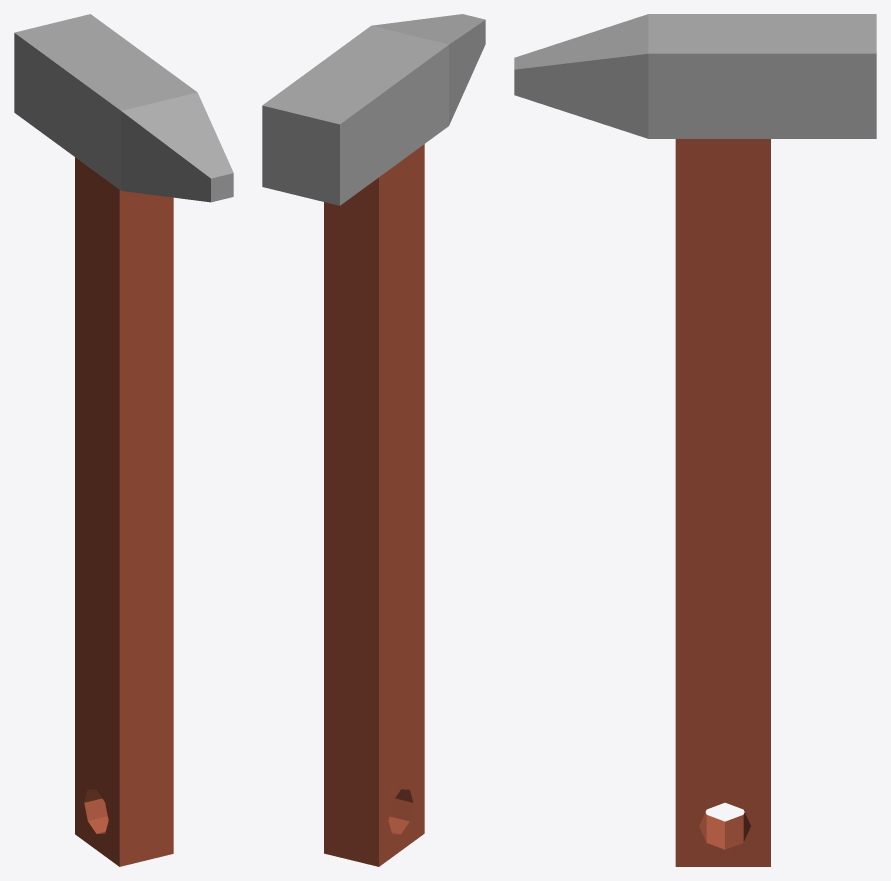
File: Martillo_2.fbx
3 views of the same model, side by side, from view 1: azimuth 30°, elevation 25°; view 2: azimuth 150°, elevation 25°; view 3: azimuth 270°, elevation 25° (orthographic). The views are drawn at different scales.
Parts seen in each view (by area): view 1: Cube.009, Cube.008; view 2: Cube.009, Cube.008; view 3: Cube.009, Cube.008.
Boxes of the visible parts, x1,y1,x2,y2 form: Cube.009: (75,157,173,866); Cube.008: (14,14,233,202); Cube.009: (324,144,424,866); Cube.008: (262,14,485,205); Cube.009: (675,139,770,866); Cube.008: (514,14,876,138).
Bounding box in the file's own units: 76.08 × 731 × 293.
